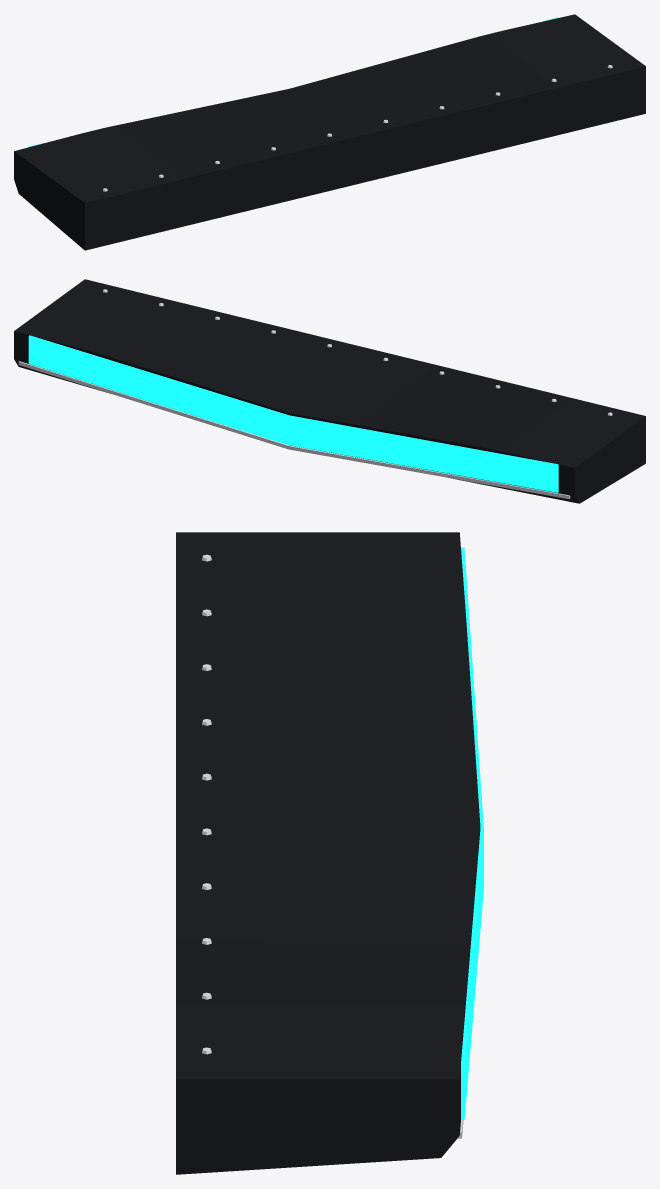
Rendered from visor_v_band.glb.
The picture shows the model from 3 angles, top to bottom: view 1: azimuth 30°, elevation 25°; view 2: azimuth 150°, elevation 25°; view 3: azimuth 270°, elevation 25°; orthographic projection. The views are drawn at different scales.
Parts seen in each view (by area): view 1: visor_v_band_deco_body; view 2: visor_v_band_deco_body, visor_v_band_deco_neon, visor_v_band_chrome; view 3: visor_v_band_deco_body, visor_v_band_deco_neon.
Part boxes in pixels (x1,y1,x2,y2): visor_v_band_deco_body: [14, 14, 645, 250]; visor_v_band_deco_body: [14, 279, 645, 503]; visor_v_band_deco_neon: [28, 335, 558, 492]; visor_v_band_chrome: [18, 289, 612, 499]; visor_v_band_deco_body: [176, 532, 480, 1174]; visor_v_band_deco_neon: [461, 547, 483, 1119].
Bounding box in the file's own units: 2.1 × 0.1755 × 0.4993.
